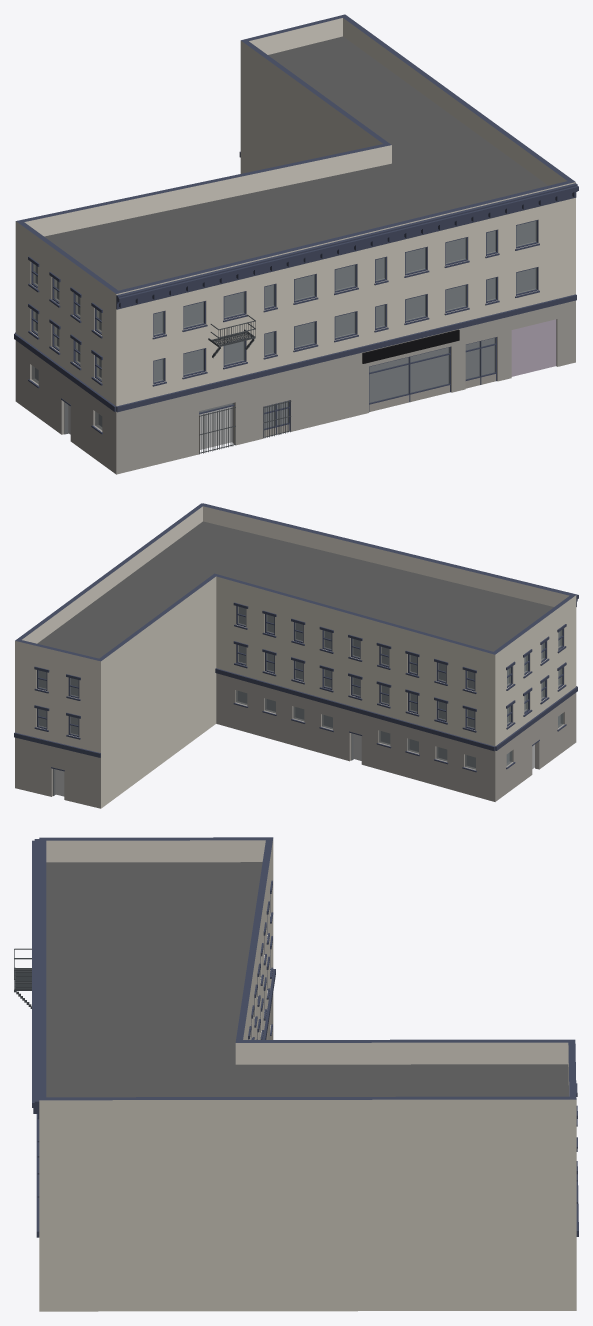
Rendered from exterior.glb.
The picture shows the model from 3 angles, top to bottom: view 1: azimuth 30°, elevation 25°; view 2: azimuth 150°, elevation 25°; view 3: azimuth 270°, elevation 25°; orthographic projection. The views are drawn at different scales.
Visible parts, largest first — view 1: shell, roof, glazing, trim, shadow-proxy, storefront, frames, front-dressing, fire-escape; view 2: shell, roof, trim, glazing, shadow-proxy, frames; view 3: shell, roof, trim.
Part boxes in pixels (bbox=[...]): shell: bbox=[15, 14, 575, 474]; roof: bbox=[44, 36, 547, 290]; glazing: bbox=[32, 220, 536, 429]; trim: bbox=[14, 151, 578, 434]; shadow-proxy: bbox=[35, 221, 535, 449]; storefront: bbox=[61, 319, 556, 454]; frames: bbox=[31, 220, 538, 384]; front-dressing: bbox=[362, 329, 459, 363]; fire-escape: bbox=[208, 314, 255, 358]; shell: bbox=[15, 503, 576, 808]; roof: bbox=[37, 521, 553, 658]; trim: bbox=[14, 503, 578, 772]; glazing: bbox=[38, 606, 563, 769]; shadow-proxy: bbox=[39, 607, 560, 796]; frames: bbox=[37, 606, 563, 737]; shell: bbox=[39, 837, 576, 1311]; roof: bbox=[46, 862, 568, 1097]; trim: bbox=[32, 839, 578, 1237].
Bounding box in the file's own units: 30.21 × 11.28 × 27.33.
